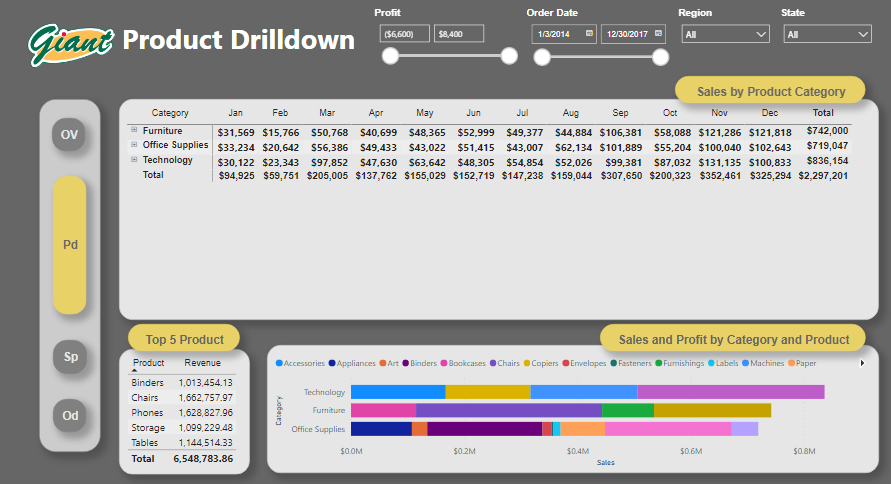

This screenshot's page, from the dashboard's own definition file:
{"tool":"powerbi","page":{"name":"Product","canvas":[1280,720],"ordinal":2},"visuals":[{"type":"shape","box":[21.4,146,91.1,521],"z":0},{"type":"actionButton","box":[140.2,20.3,546.5,69.5],"z":1000},{"type":"shape","box":[41.8,173.6,49.1,49],"z":2000},{"type":"slicer","title":"Order Date","fields":{"Values":["Sample - Superstore.Order Date"]},"box":[736.9,10.1,224.2,102.5],"z":3000},{"type":"shape","box":[43,260.1,49.1,203.9],"z":4000},{"type":"slicer","title":"Region","fields":{"Values":["Sample - Superstore.Region"]},"box":[961.1,10.1,149.8,69.8],"z":5000},{"type":"shape","box":[42.6,501.6,49.6,50],"z":6000},{"type":"slicer","title":"State","fields":{"Values":["Sample - Superstore.State"]},"box":[1111,10.1,149.8,69.8],"z":7000},{"type":"shape","box":[43,589.2,49.1,49.1],"z":8000},{"type":"pivotTable","title":"Sales by Product Category","fields":{"Columns":["Sample - Superstore.Month"],"Rows":["Sample - Superstore.Category","Sample - Superstore.Year"],"Values":["Sum(Sample - Superstore.Sales)"]},"box":[140.6,145.5,1121,326.4],"z":10000},{"type":"tableEx","title":"Top 5 Product by Revenue","fields":{"Values":["Sample - Superstore.Sub-Category","Sample - Superstore.Revenue"]},"box":[140.6,514.6,193.1,184.6],"z":11000},{"type":"barChart","fields":{"Category":["Sample - Superstore.Category"],"Y":["Sum(Sample - Superstore.Sales)"],"Series":["Sample - Superstore.Sub-Category"]},"box":[358.2,509.7,903.4,189.5],"z":12000},{"type":"slicer","title":"Profit","fields":{"Values":["Sample - Superstore.Profit"]},"box":[512.2,9.8,224.9,99],"z":13000},{"type":"actionButton","box":[154,478,165,40.3],"z":14000},{"type":"actionButton","box":[849.6,478,392.4,40.3],"z":15000},{"type":"actionButton","box":[960.8,112.5,281.1,40.3],"z":16000},{"type":"image","box":[0,0,140.6,134.5],"z":17000}]}

Visuals, with their boxes on the page's 1280x720 design canvas (x1, y1, x2, y2). These are canvas units, not pixel positions in the 891x484 screenshot, which may show the page scaled, cropped or inside an application window:
shape: <region>21, 146, 112, 667</region>
actionButton: <region>140, 20, 687, 90</region>
shape: <region>42, 174, 91, 223</region>
"Order Date" slicer: <region>737, 10, 961, 113</region>
shape: <region>43, 260, 92, 464</region>
"Region" slicer: <region>961, 10, 1111, 80</region>
shape: <region>43, 502, 92, 552</region>
"State" slicer: <region>1111, 10, 1261, 80</region>
shape: <region>43, 589, 92, 638</region>
"Sales by Product Category" pivotTable: <region>141, 146, 1262, 472</region>
"Top 5 Product by Revenue" tableEx: <region>141, 515, 334, 699</region>
barChart - Sample - Superstore.Category x Sum(Sample - Superstore.Sales): <region>358, 510, 1262, 699</region>
"Profit" slicer: <region>512, 10, 737, 109</region>
actionButton: <region>154, 478, 319, 518</region>
actionButton: <region>850, 478, 1242, 518</region>
actionButton: <region>961, 112, 1242, 153</region>
image: <region>0, 0, 141, 134</region>
